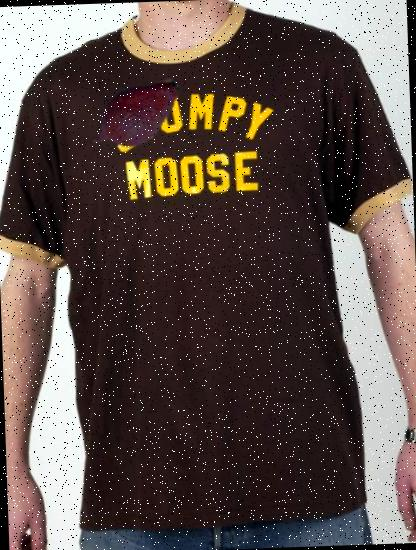Salak: (84, 62, 189, 167)
